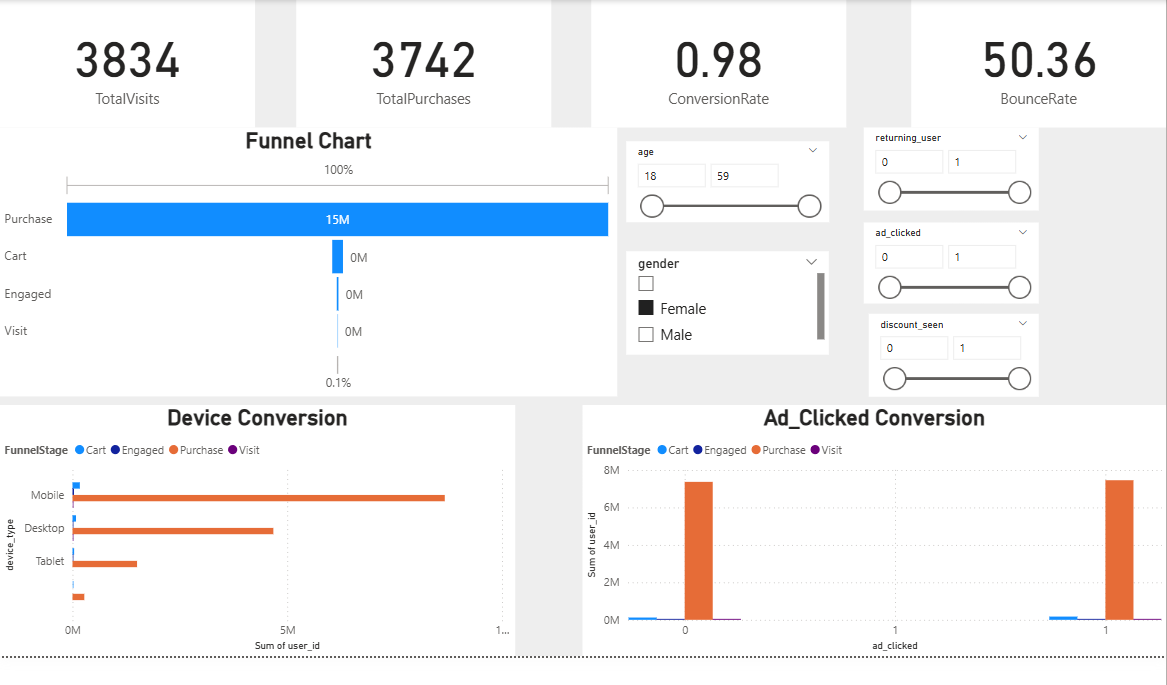

The page's visual inventory and layout, read from the dashboard file:
{"tool":"powerbi","page":{"name":"Page 1","canvas":[1280,720],"ordinal":0},"visuals":[{"type":"card","fields":{"Values":["ecommerce_user_behavior.TotalVisits"]},"box":[0,0,279.9,140],"z":0},{"type":"card","fields":{"Values":["ecommerce_user_behavior.TotalPurchases"]},"box":[325.2,0,279.9,140],"z":1000},{"type":"card","fields":{"Values":["ecommerce_user_behavior.ConversionRate"]},"box":[649.1,0,279.9,140],"z":2000},{"type":"card","fields":{"Values":["ecommerce_user_behavior.BounceRate"]},"box":[1000.3,0,279.9,140],"z":3000},{"type":"funnel","title":"Funnel Chart","fields":{"Category":["ecommerce_user_behavior.FunnelStage"],"Y":["Sum(ecommerce_user_behavior.user_id)"]},"box":[0,140,677.9,295],"z":4000},{"type":"clusteredBarChart","title":"Device Conversion","fields":{"Category":["ecommerce_user_behavior.device_type"],"Series":["ecommerce_user_behavior.FunnelStage"],"Y":["Sum(ecommerce_user_behavior.user_id)"]},"box":[0,444.6,565.4,275.8],"z":5000},{"type":"clusteredColumnChart","title":"Ad_Clicked Conversion","fields":{"Category":["ecommerce_user_behavior.ad_clicked"],"Series":["ecommerce_user_behavior.FunnelStage"],"Y":["Sum(ecommerce_user_behavior.user_id)"]},"box":[639.5,444.6,640.8,275.8],"z":6000},{"type":"slicer","fields":{"Values":["ecommerce_user_behavior.age"]},"box":[687.5,155.1,222.3,89.2],"z":7000},{"type":"slicer","fields":{"Values":["ecommerce_user_behavior.gender"]},"box":[687.5,275.8,222.3,113.9],"z":8000},{"type":"slicer","fields":{"Values":["ecommerce_user_behavior.returning_user"]},"box":[948.2,140,192.1,90.6],"z":9000},{"type":"slicer","fields":{"Values":["ecommerce_user_behavior.ad_clicked"]},"box":[948.2,244.3,192.1,89.2],"z":10000},{"type":"slicer","fields":{"Values":["ecommerce_user_behavior.discount_seen"]},"box":[953.7,344.4,186.6,90.6],"z":11000}]}

Visuals, with their boxes on the page's 1280x720 design canvas (x1, y1, x2, y2). These are canvas units, not pixel positions in the 1167x685 screenshot, which may show the page scaled, cropped or inside an application window:
card - ecommerce_user_behavior.TotalVisits: (x1=0, y1=0, x2=280, y2=140)
card - ecommerce_user_behavior.TotalPurchases: (x1=325, y1=0, x2=605, y2=140)
card - ecommerce_user_behavior.ConversionRate: (x1=649, y1=0, x2=929, y2=140)
card - ecommerce_user_behavior.BounceRate: (x1=1000, y1=0, x2=1280, y2=140)
"Funnel Chart" funnel: (x1=0, y1=140, x2=678, y2=435)
"Device Conversion" clusteredBarChart: (x1=0, y1=445, x2=565, y2=720)
"Ad_Clicked Conversion" clusteredColumnChart: (x1=640, y1=445, x2=1280, y2=720)
slicer - ecommerce_user_behavior.age: (x1=688, y1=155, x2=910, y2=244)
slicer - ecommerce_user_behavior.gender: (x1=688, y1=276, x2=910, y2=390)
slicer - ecommerce_user_behavior.returning_user: (x1=948, y1=140, x2=1140, y2=231)
slicer - ecommerce_user_behavior.ad_clicked: (x1=948, y1=244, x2=1140, y2=334)
slicer - ecommerce_user_behavior.discount_seen: (x1=954, y1=344, x2=1140, y2=435)
